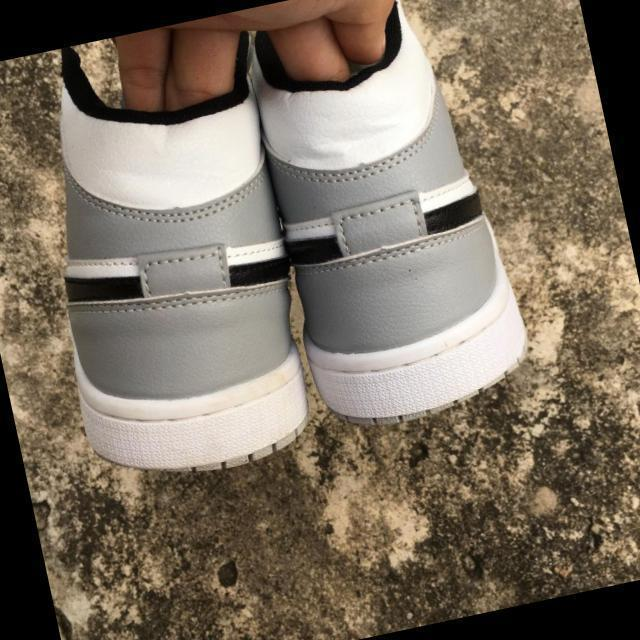nike fake jordan 1: (4, 13, 332, 501), (233, 0, 543, 444)
